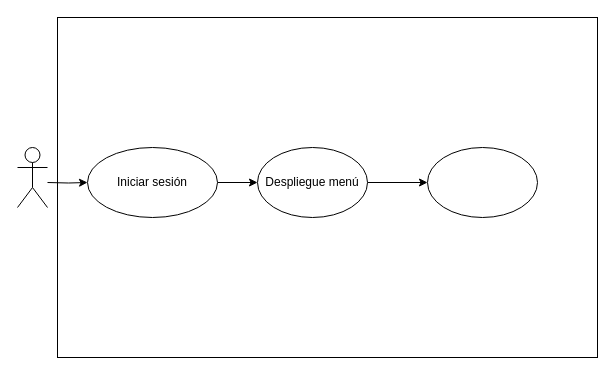
Image size: 615x375. Some labels were removed from this diagram. Here are the shapes that lost their labels. From the top down, the centre of each, then its label:
At (x=32, y=177): "User".
At (x=482, y=182): "Seleccionar guia".
